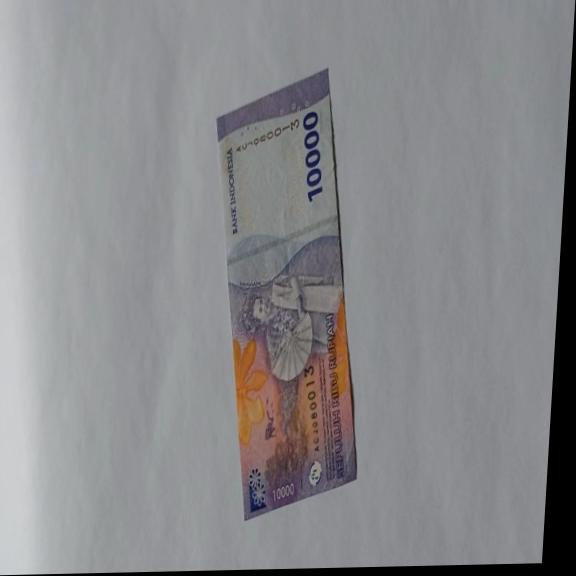Kertas: (191, 65, 382, 522)
